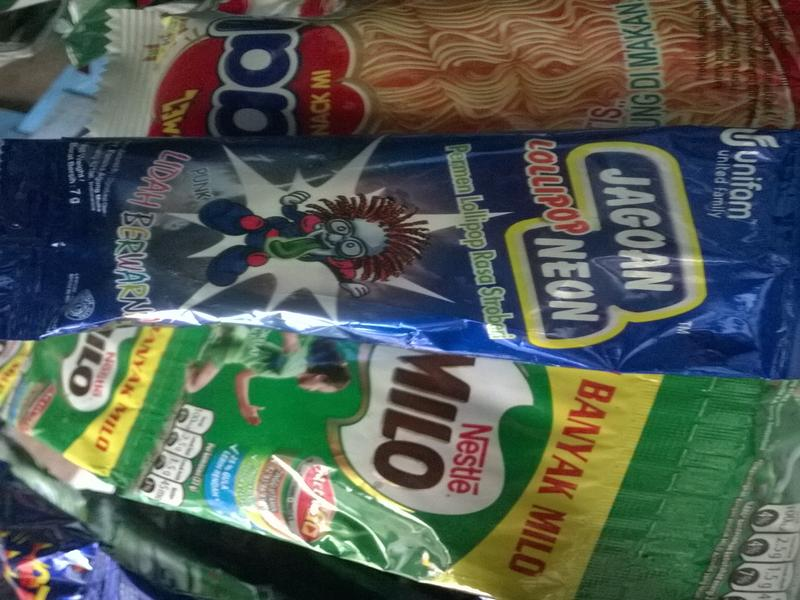jagoan neon: (2, 129, 799, 379)
